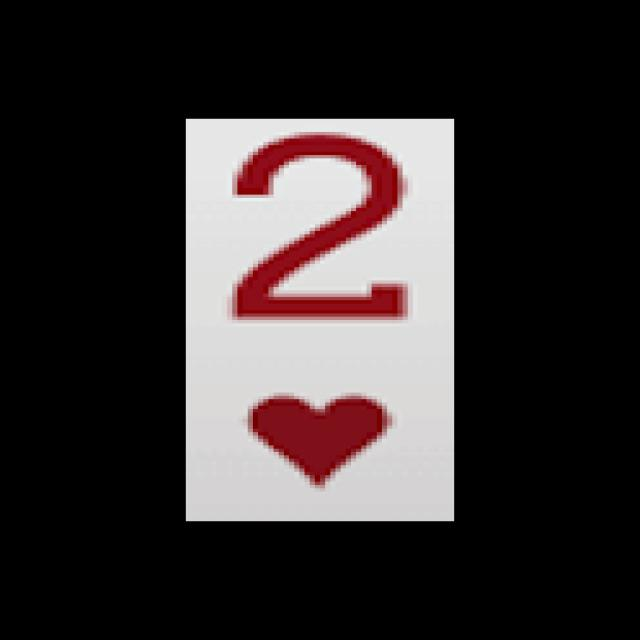2H: (210, 127, 430, 497)
